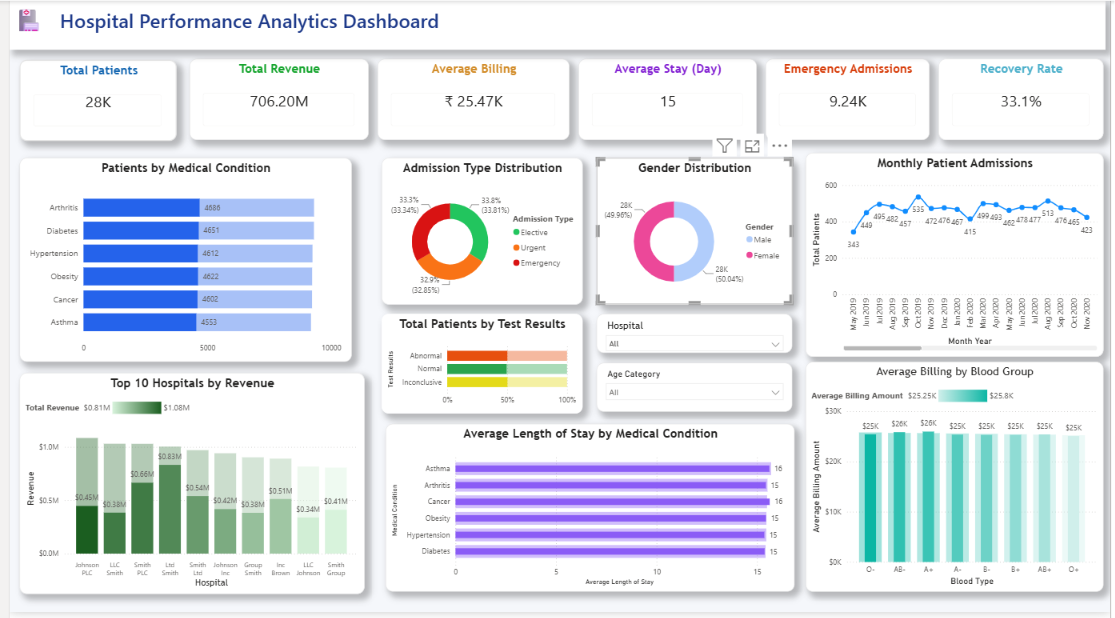

The page's visual inventory and layout, read from the dashboard file:
{"tool":"powerbi","page":{"name":"Page 1","canvas":[1800,1000],"ordinal":0},"visuals":[{"type":"cardVisual","title":"Total Revenue","fields":{"Data":["healthcare_dataset.Total Revenue"]},"box":[294.3,94.8,292.7,132.4],"z":0},{"type":"cardVisual","title":"Total Patients","fields":{"Data":["healthcare_dataset.Total Patients"]},"box":[16,96,256.7,132.4],"z":1000},{"type":"cardVisual","title":"Average Billing","fields":{"Data":["healthcare_dataset.Average Billing Amount"]},"box":[601.7,94.8,314,132.4],"z":2000},{"type":"cardVisual","title":"Average Stay (Day)","fields":{"Data":["healthcare_dataset.Average Length of Stay"]},"box":[930.4,94.8,291.1,132.4],"z":3000},{"type":"cardVisual","title":"Emergency Admissions","fields":{"Data":["healthcare_dataset.Emergency Admissions"]},"box":[1236.2,94.8,268.2,132.4],"z":4000},{"type":"clusteredBarChart","title":"Patients by Medical Condition  ","fields":{"Category":["healthcare_dataset.Medical Condition"],"Y":["healthcare_dataset.Total Patients"]},"box":[16,256,542.9,333.6],"z":5000},{"type":"textbox","box":[0,0,1792,80],"z":6000},{"type":"lineChart","title":"Monthly Patient Admissions","fields":{"Category":["healthcare_dataset.Month Year"],"Y":["healthcare_dataset.Total Patients"]},"box":[1301.6,248.5,487.3,333.6],"z":8000},{"type":"cardVisual","title":"Recovery Rate","fields":{"Data":["healthcare_dataset.Recovery Rate"]},"box":[1519.1,94.8,269.8,132.4],"z":9000},{"type":"donutChart","title":"Gender Distribution","fields":{"Category":["healthcare_dataset.Gender"],"Y":["healthcare_dataset.Total Patients"]},"box":[960,256,320,240],"z":10000},{"type":"donutChart","title":"Admission Type Distribution","fields":{"Category":["healthcare_dataset.Admission Type"],"Y":["healthcare_dataset.Total Patients"]},"box":[608,256,328.7,240.4],"z":11000},{"type":"clusteredColumnChart","title":"Top 10 Hospitals by Revenue","fields":{"Category":["healthcare_dataset.Hospital"],"Y":["healthcare_dataset.Total Revenue"]},"box":[16,608,564.1,361.4],"z":12000},{"type":"hundredPercentStackedBarChart","fields":{"Category":["healthcare_dataset.Test Results"],"Y":["healthcare_dataset.Total Patients"]},"box":[608,512,328.7,163.5],"z":13000},{"type":"slicer","fields":{"Values":["healthcare_dataset.Hospital"]},"box":[960,512,320,64],"z":14000},{"type":"slicer","fields":{"Values":["healthcare_dataset.Age Category"]},"box":[960,592,320,80],"z":15000},{"type":"clusteredColumnChart","title":"Average Billing by Blood Group","fields":{"Category":["healthcare_dataset.Blood Type"],"Y":["healthcare_dataset.Average Billing Amount"]},"box":[1301.6,590.3,487,376],"z":16000},{"type":"clusteredBarChart","fields":{"Category":["healthcare_dataset.Medical Condition"],"Y":["healthcare_dataset.Average Length of Stay"]},"box":[614.8,691.7,668.8,274.7],"z":17000}]}

Visuals, with their boxes in screenshot pixels (x1, y1, x2, y2), scaled from the page's 1800x1000 canvas onto the 1115x618 screenshot:
"Total Revenue" cardVisual: x1=182 y1=59 x2=364 y2=140
"Total Patients" cardVisual: x1=10 y1=59 x2=169 y2=141
"Average Billing" cardVisual: x1=373 y1=59 x2=567 y2=140
"Average Stay (Day)" cardVisual: x1=576 y1=59 x2=757 y2=140
"Emergency Admissions" cardVisual: x1=766 y1=59 x2=932 y2=140
"Patients by Medical Condition  " clusteredBarChart: x1=10 y1=158 x2=346 y2=364
textbox: x1=0 y1=0 x2=1110 y2=49
"Monthly Patient Admissions" lineChart: x1=806 y1=154 x2=1108 y2=360
"Recovery Rate" cardVisual: x1=941 y1=59 x2=1108 y2=140
"Gender Distribution" donutChart: x1=595 y1=158 x2=793 y2=307
"Admission Type Distribution" donutChart: x1=377 y1=158 x2=580 y2=307
"Top 10 Hospitals by Revenue" clusteredColumnChart: x1=10 y1=376 x2=359 y2=599
hundredPercentStackedBarChart - healthcare_dataset.Test Results x healthcare_dataset.Total Patients: x1=377 y1=316 x2=580 y2=417
slicer - healthcare_dataset.Hospital: x1=595 y1=316 x2=793 y2=356
slicer - healthcare_dataset.Age Category: x1=595 y1=366 x2=793 y2=415
"Average Billing by Blood Group" clusteredColumnChart: x1=806 y1=365 x2=1108 y2=597
clusteredBarChart - healthcare_dataset.Medical Condition x healthcare_dataset.Average Length of Stay: x1=381 y1=427 x2=795 y2=597
